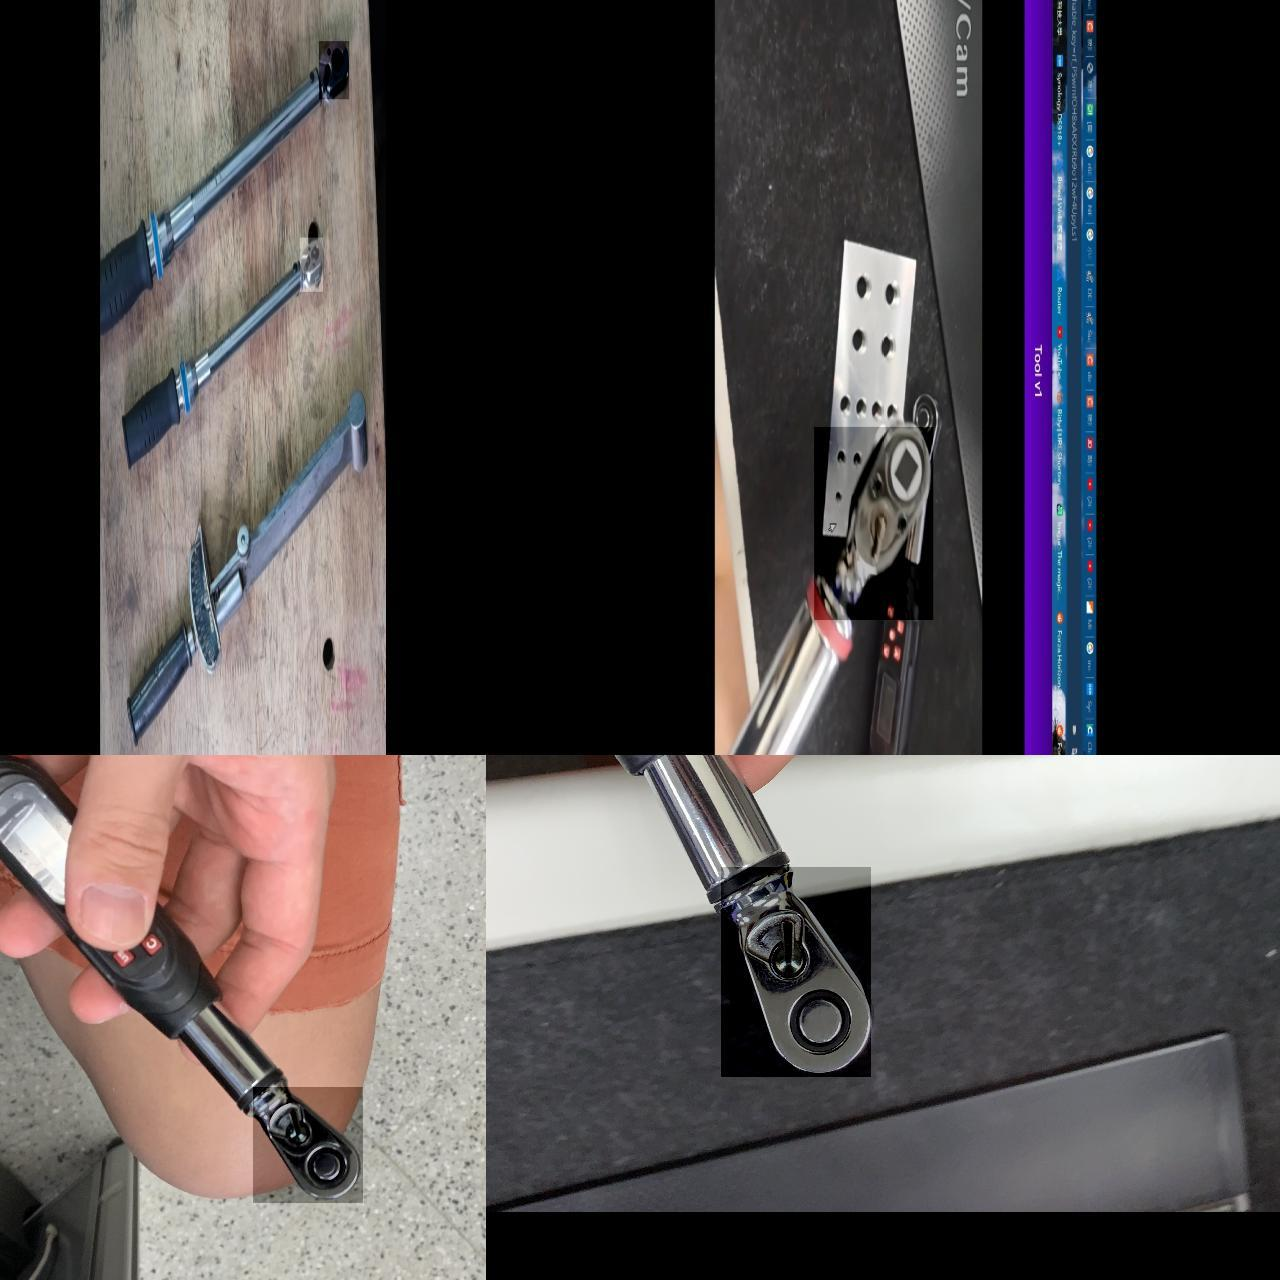Tool: (720, 867, 870, 1077), (813, 427, 933, 620), (252, 1087, 362, 1203), (319, 41, 349, 98), (300, 237, 324, 291)
